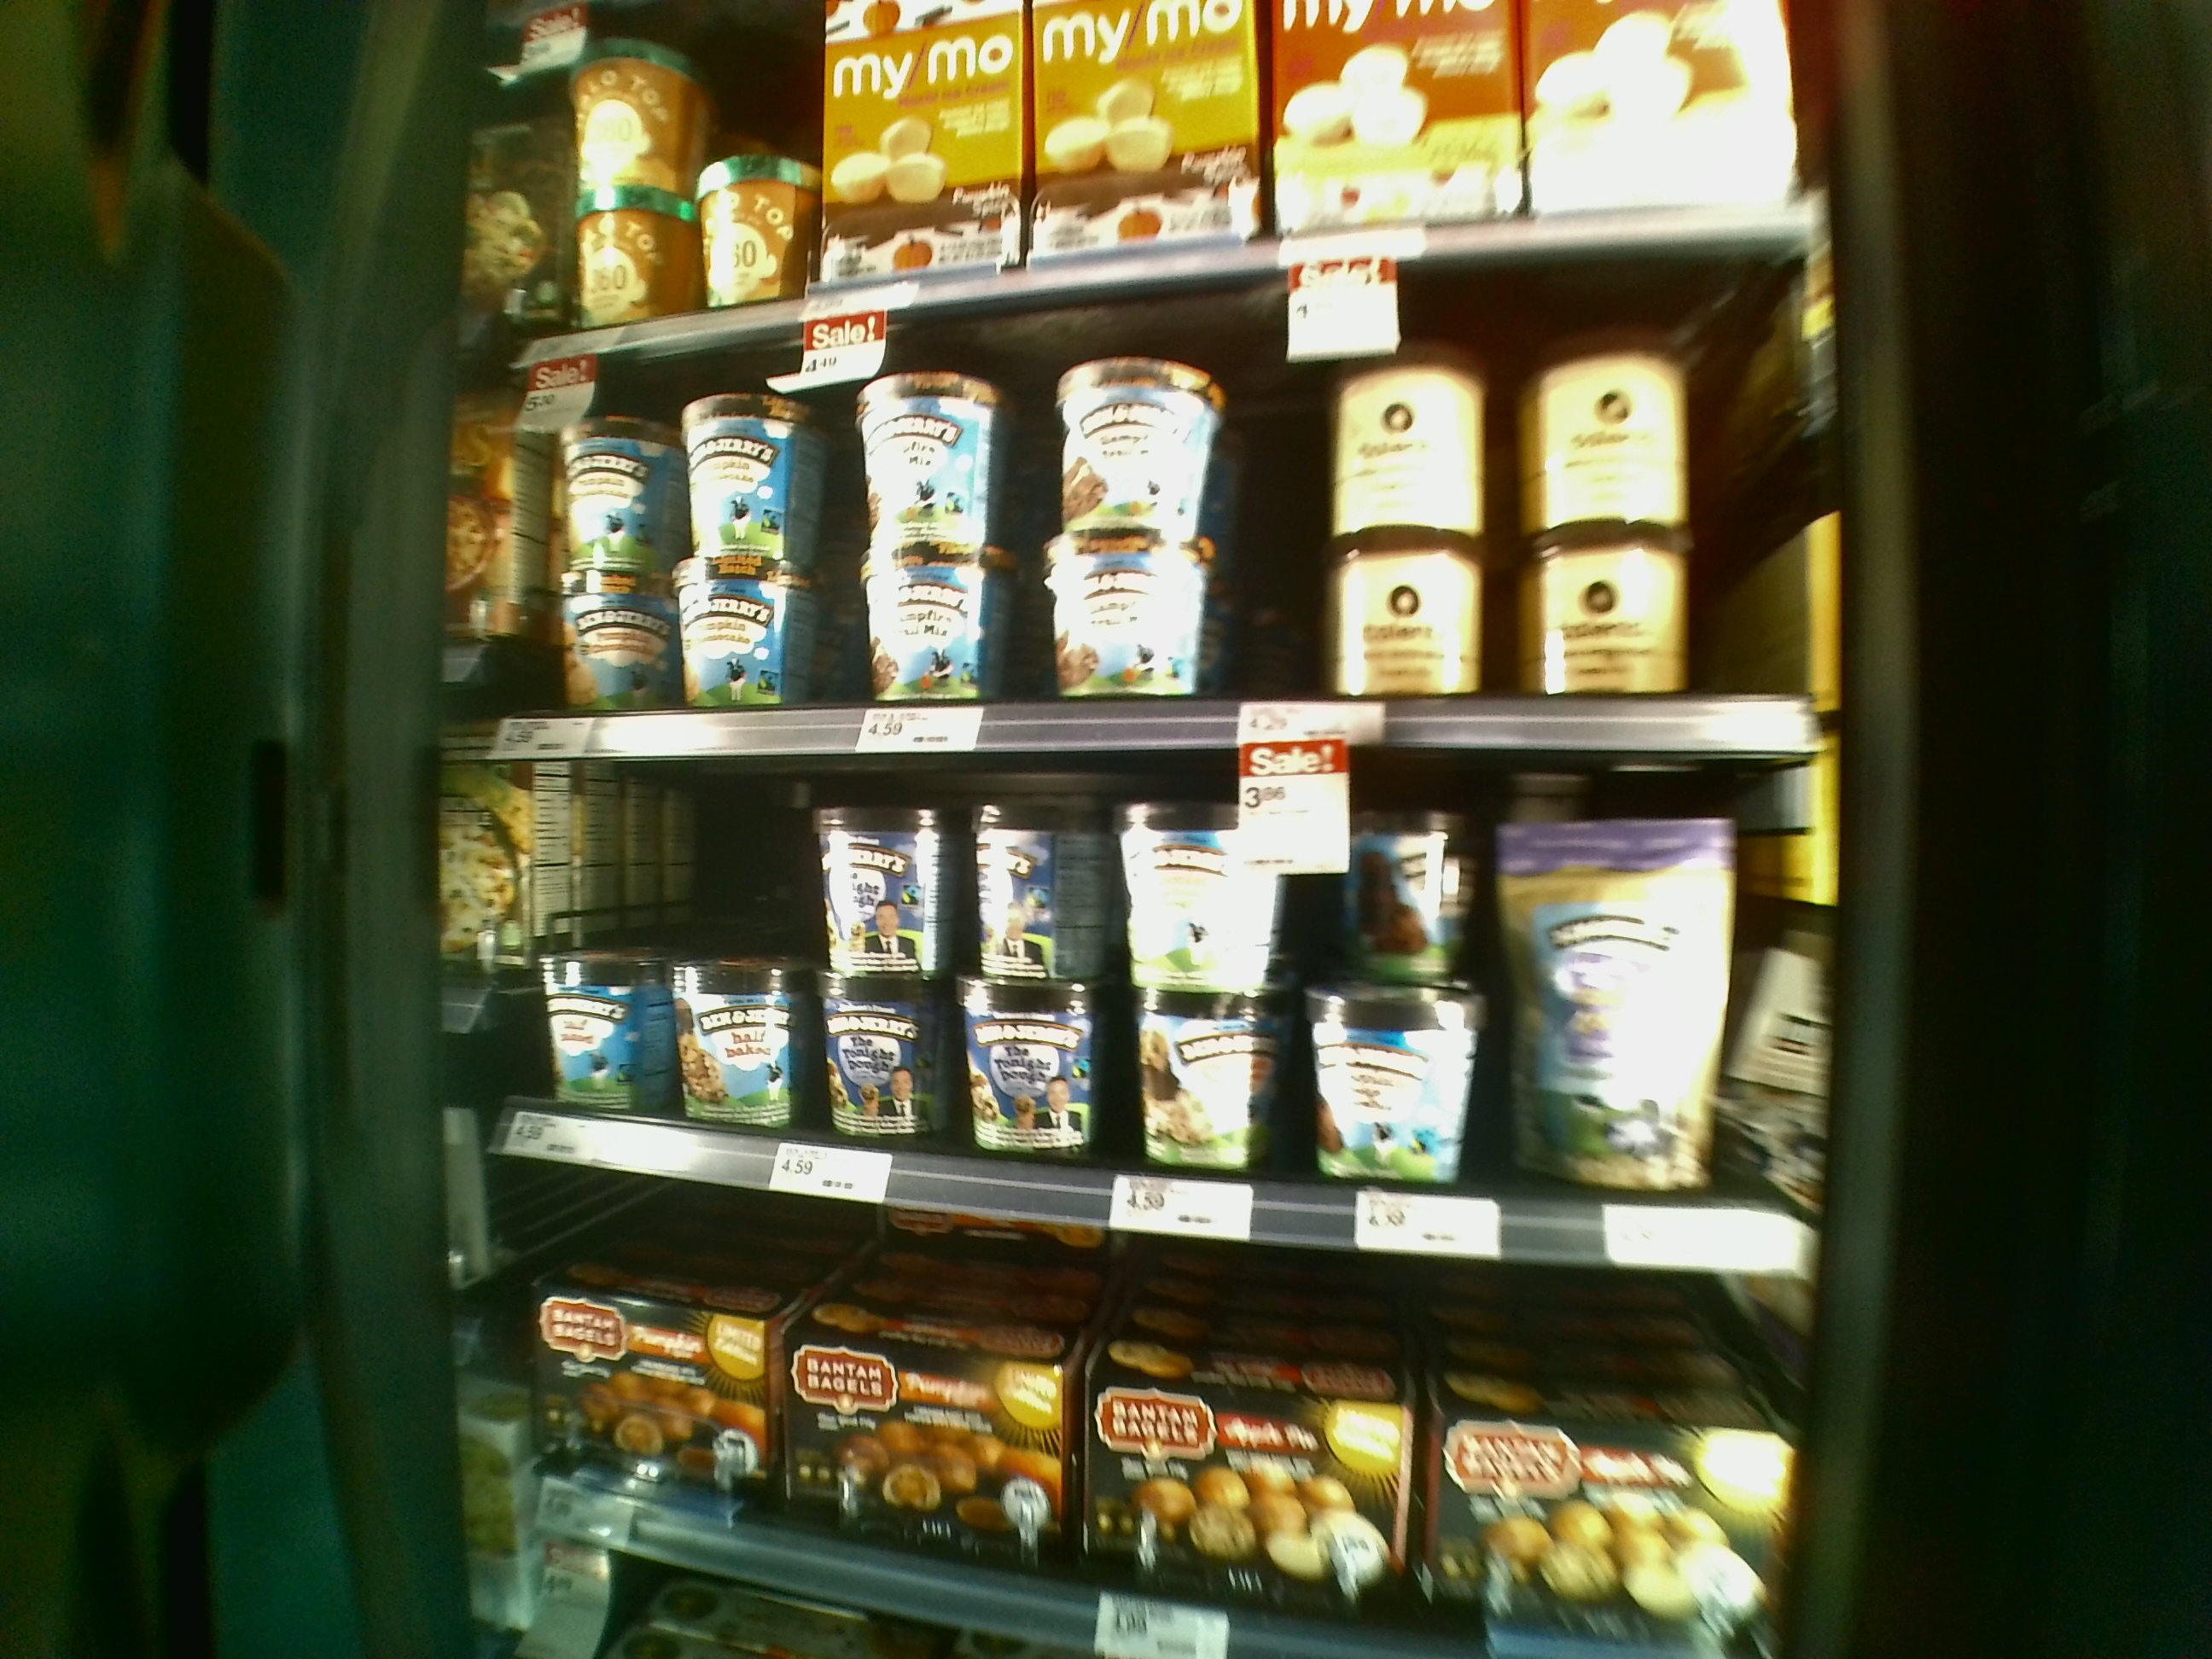shelf: (482, 741, 1829, 1246), (509, 310, 1832, 737)
